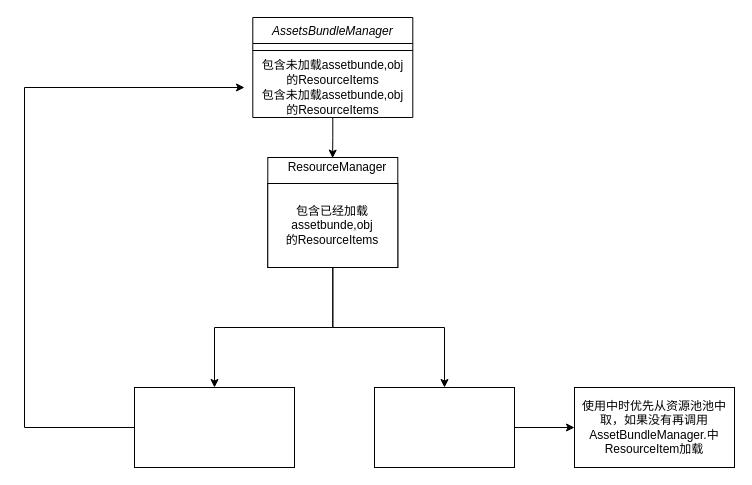
The diagram is 752 pixels wide and 485 high, and some of its shapes have lost their labels. Here are the shapes that lost their labels. From the top down, the centre of each, then its label:
At point (214, 427): "清空 ResourceItem的 assetbunde,obj".
At point (444, 427): "资源池 CMapList双向列表".
